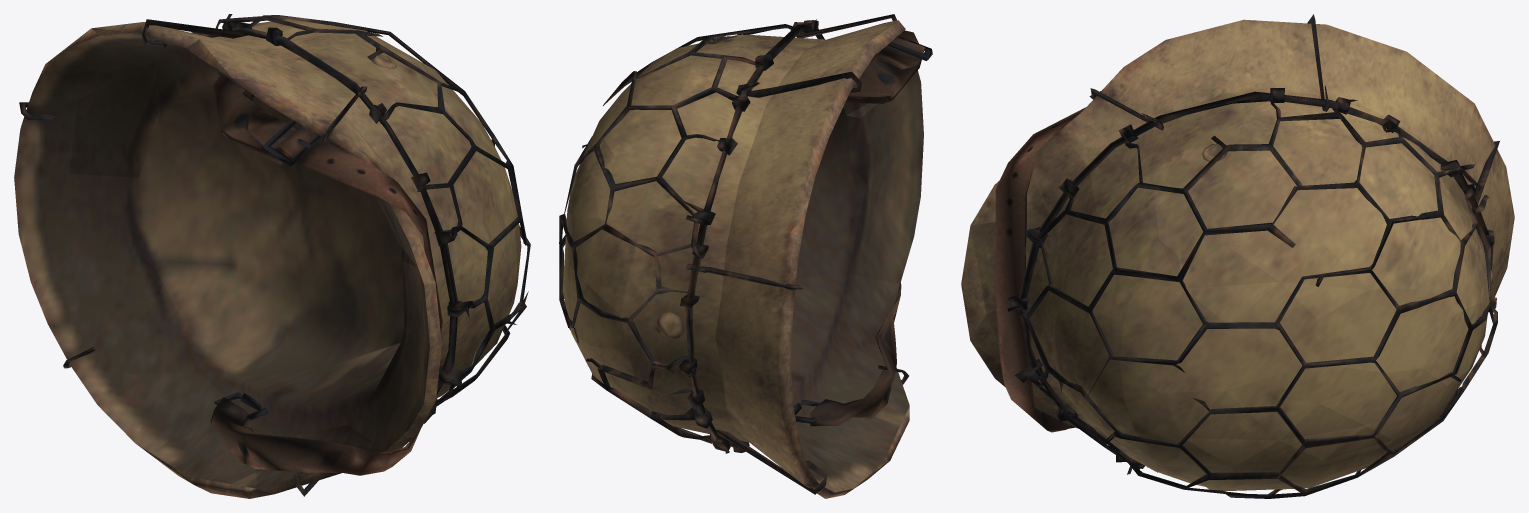
The model's file is M_AntiqueHelmet.fbx.
3 views of the same model, side by side, from view 1: azimuth 30°, elevation 25°; view 2: azimuth 150°, elevation 25°; view 3: azimuth 270°, elevation 25° (orthographic). The views are drawn at different scales.
Visible parts, largest first — view 1: AntiqueHelmet; view 2: AntiqueHelmet; view 3: AntiqueHelmet.
Part boxes in pixels (x1,y1,x2,y2): AntiqueHelmet: (14,14,530,498); AntiqueHelmet: (559,14,932,498); AntiqueHelmet: (961,14,1514,498).
Size of the model in its own units: 0.1214 by 0.1529 by 0.1775.
